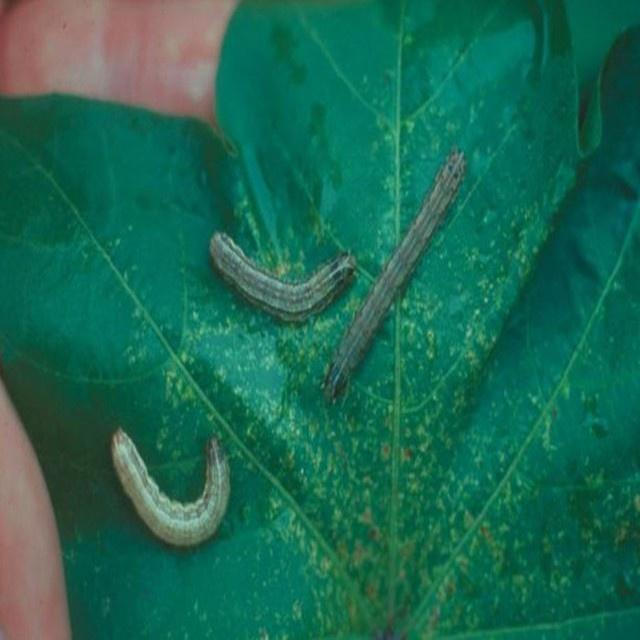Plaga: (104, 424, 239, 553), (203, 220, 363, 325)
